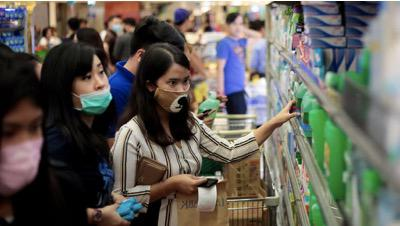mask_weared_incorrect: (72, 60, 113, 115)
with_mask: (0, 109, 46, 191), (153, 73, 191, 113)
without_mask: (227, 20, 244, 37)
